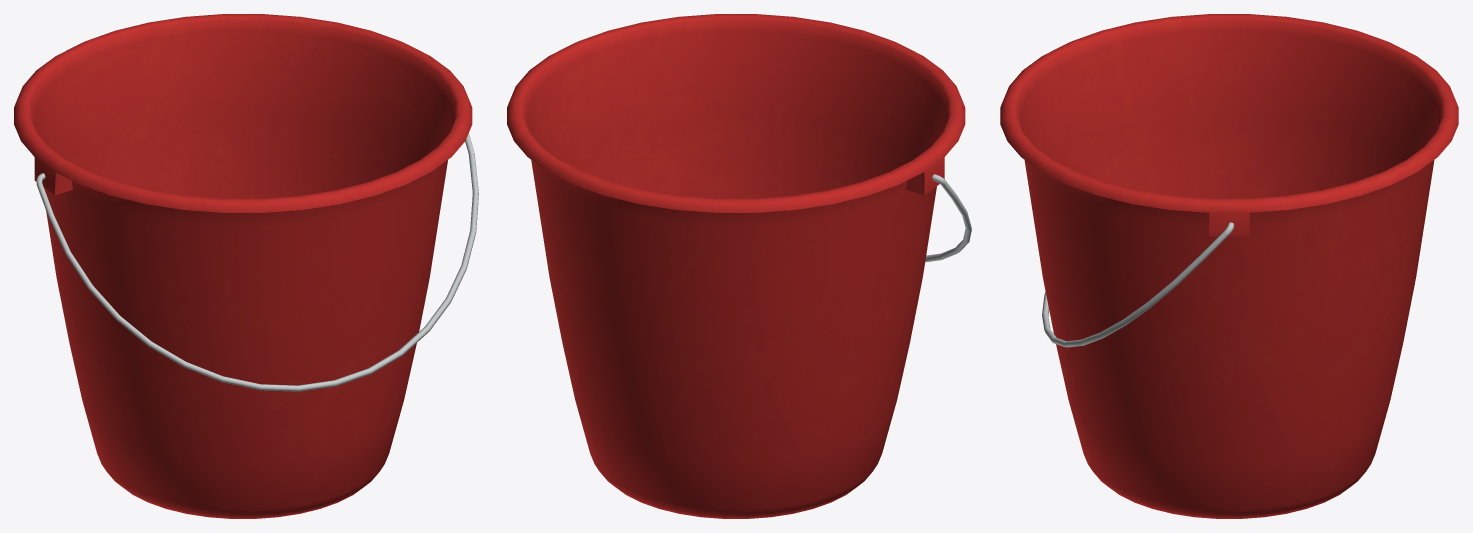
The model's file is bucket.glb.
3 renders of one model, left to right at view 1: azimuth 30°, elevation 25°; view 2: azimuth 150°, elevation 25°; view 3: azimuth 270°, elevation 25°, orthographic.
Visible parts, largest first — view 1: RustyBucket; view 2: RustyBucket; view 3: RustyBucket.
Boxes of the visible parts, bbox=[...] form: RustyBucket: bbox=[14, 14, 478, 518]; RustyBucket: bbox=[507, 14, 971, 518]; RustyBucket: bbox=[1000, 14, 1458, 518].
Size of the model in its own units: 0.2493 by 0.2031 by 0.2378.
1 material, 1 textured.
